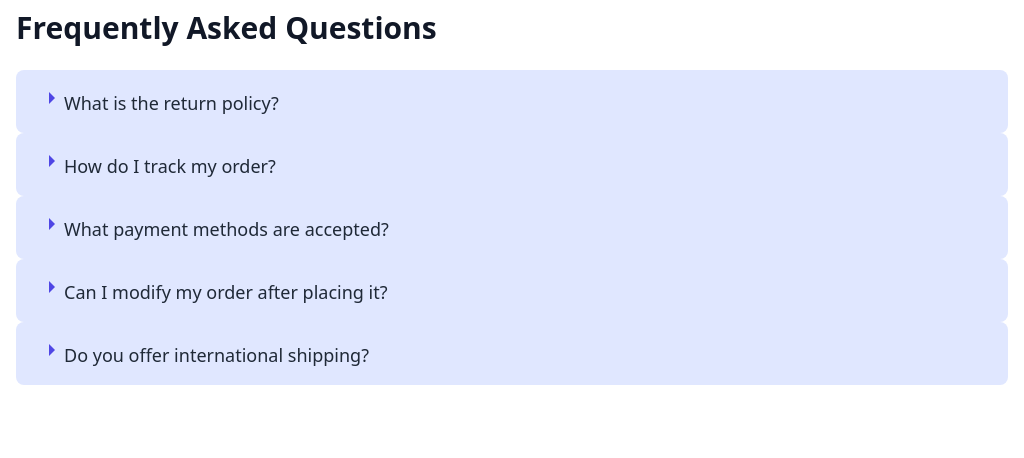
it: FAQAccordion Component › should expand and show content when an item is clicked
The image size is (1024, 458).
What coordinates should you click on to do the following:
click the button "What is the return policy?"
I would click on:
 (171, 103)
Its box is [16, 70, 1008, 133].
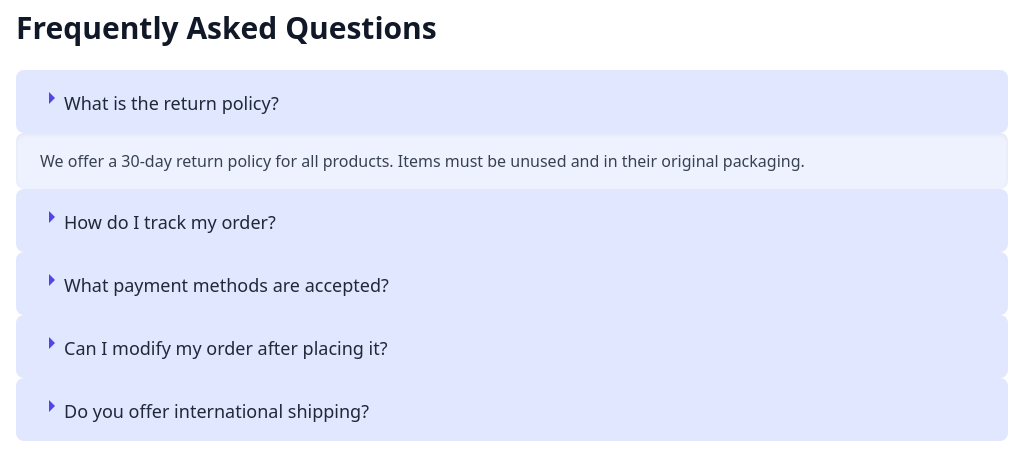
Now the text "We offer a 30-day return policy for all products. Items must be unused and in their original packaging." is shown, box [40, 150, 805, 172]
